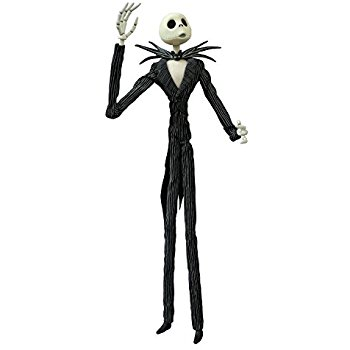Jack Skellington: (106, 2, 249, 345)
